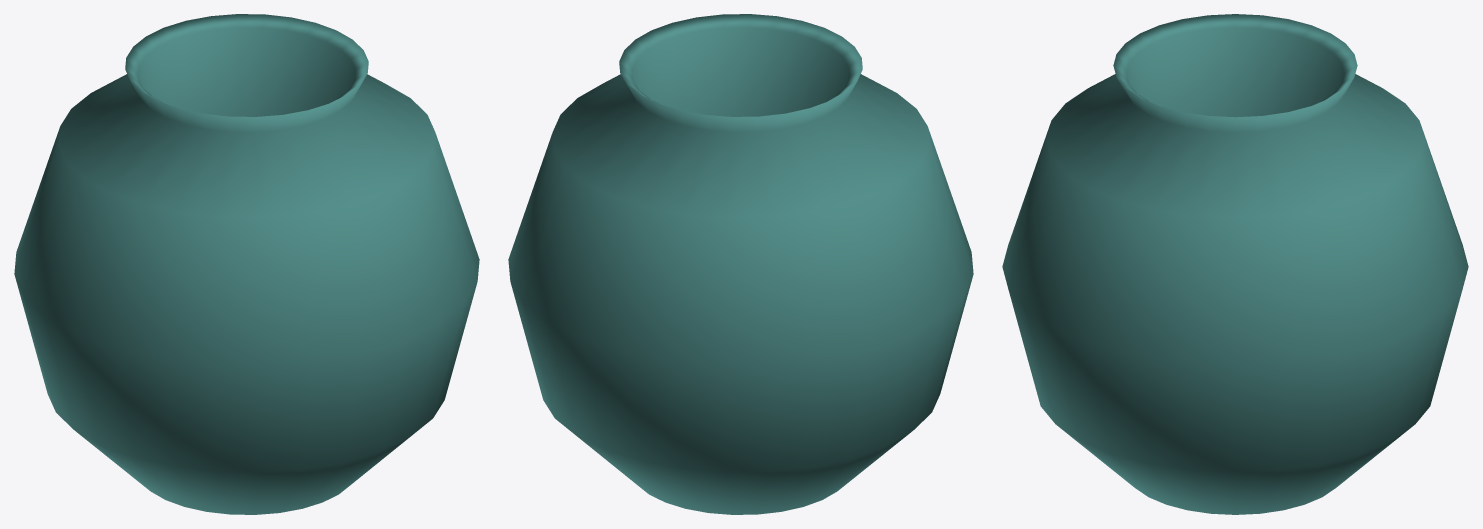
The model's file is i_vase_3_1.glb.
3 views of the same model, side by side, from view 1: azimuth 30°, elevation 25°; view 2: azimuth 150°, elevation 25°; view 3: azimuth 270°, elevation 25° (orthographic).
Visible parts, largest first — view 1: o; view 2: o; view 3: o.
Part boxes in pixels (x1,y1,x2,y2): o: [14, 14, 479, 514]; o: [508, 14, 973, 514]; o: [1002, 14, 1468, 514].
Size of the model in its own units: 0.21 by 0.2 by 0.21.
